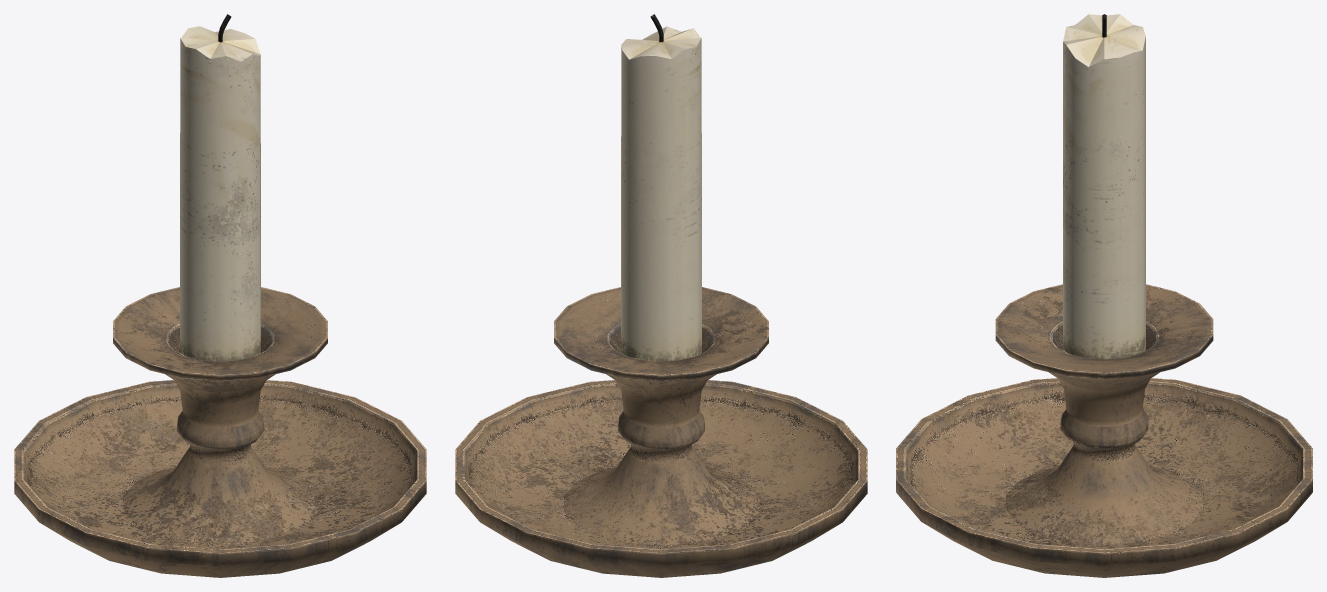
Rendered from candle_lowpoly.glb.
3 views of the same model, side by side, from view 1: azimuth 30°, elevation 25°; view 2: azimuth 150°, elevation 25°; view 3: azimuth 270°, elevation 25° (orthographic).
Visible parts, largest first — view 1: pCylinder1, pCylinder2; view 2: pCylinder1, pCylinder2; view 3: pCylinder1, pCylinder2.
Boxes of the visible parts, <box> form: pCylinder1: <box>14,287,426,577</box>; pCylinder2: <box>180,26,260,361</box>; pCylinder1: <box>455,287,867,577</box>; pCylinder2: <box>621,26,701,361</box>; pCylinder1: <box>896,284,1312,577</box>; pCylinder2: <box>1063,14,1145,359</box>.
Size of the model in its own units: 1.54 by 2 by 1.52.
1 material, 1 textured.
